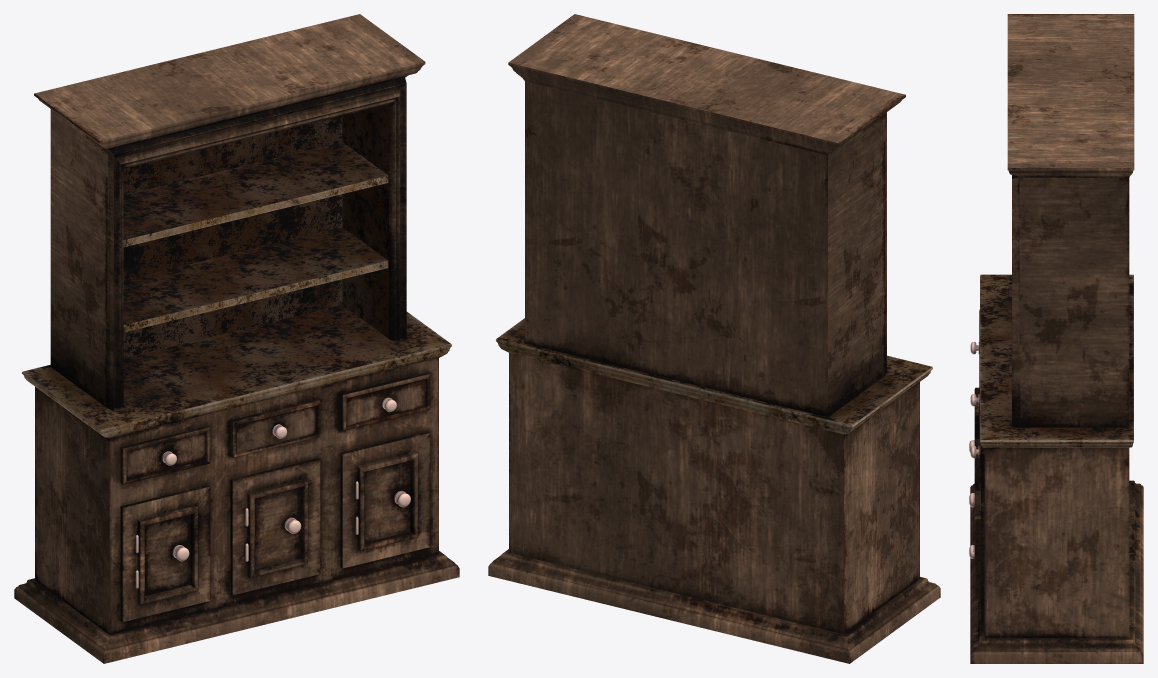
The model's file is old_cabinet.glb.
The picture shows the model from 3 angles, left to right: view 1: azimuth 30°, elevation 25°; view 2: azimuth 150°, elevation 25°; view 3: azimuth 270°, elevation 25°; orthographic projection. The views are drawn at different scales.
Parts seen in each view (by area): view 1: Cube.003; view 2: Cube.003; view 3: Cube.003.
Part boxes in pixels (left/top/right/bottom): Cube.003: left=14, top=14, right=459, bottom=663; Cube.003: left=488, top=14, right=940, bottom=663; Cube.003: left=969, top=14, right=1143, bottom=663.
Bounding box in the file's own units: 4.36 × 5.92 × 1.92.
Materials: 3 (3 with a texture image).
